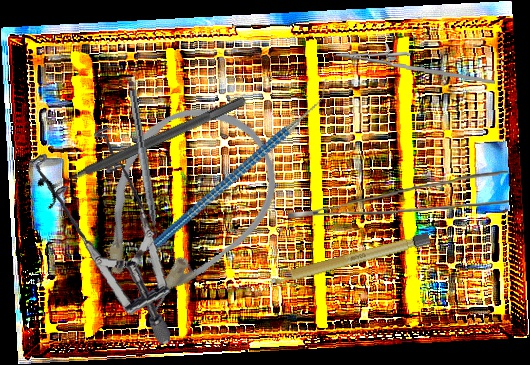Cannula: (61, 78, 302, 339)
Chopper: (120, 77, 363, 249), (117, 88, 165, 253)
Fixation Ring: (33, 83, 253, 212)
Needle Holder: (335, 40, 497, 85)
Scalpel Handle: (268, 231, 431, 288)
Speculum: (9, 118, 195, 345)
Tissue Forceps: (287, 170, 509, 219)
